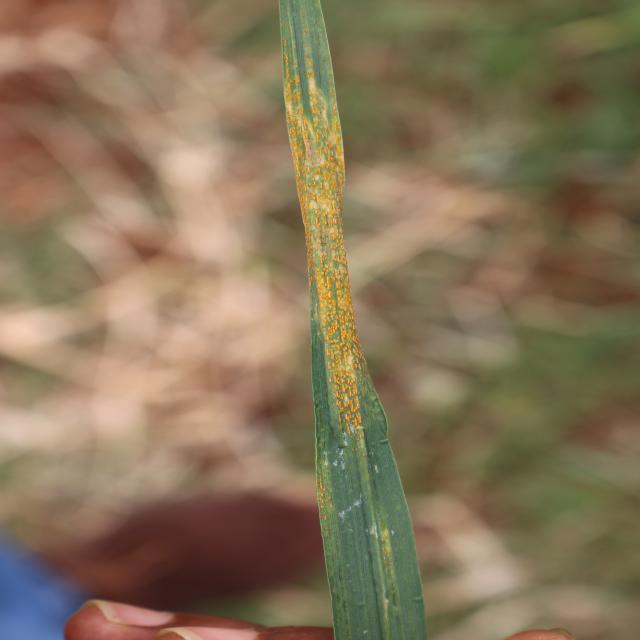Stripe Rust: (282, 63, 389, 430)
